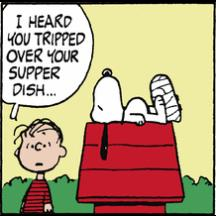snoopy: (90, 64, 185, 162)
